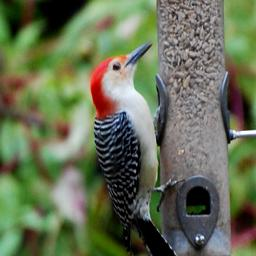Woodpecker: (89, 41, 187, 256)
